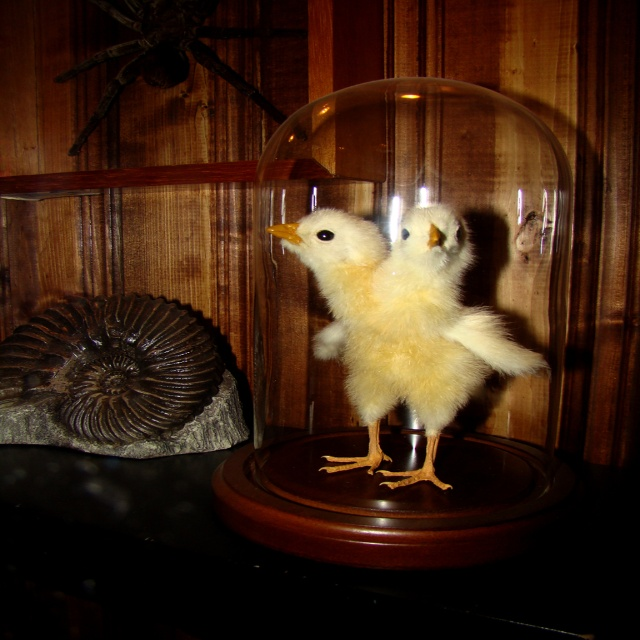Chicken: (289, 193, 540, 516)
